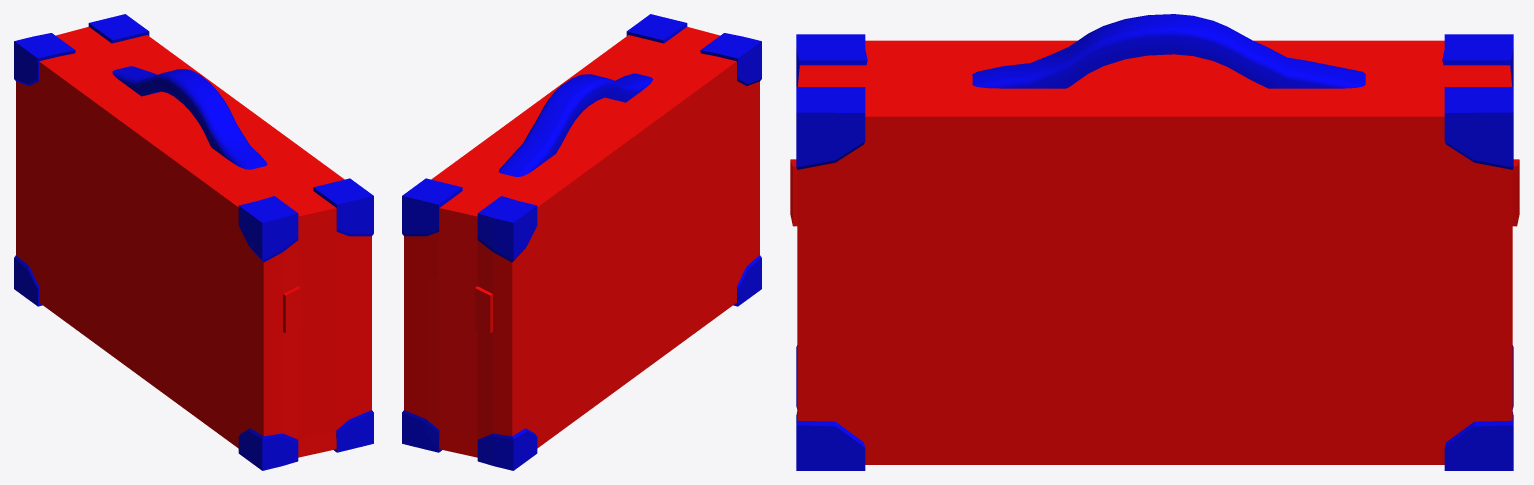
The model's file is Maleta1.fbx.
3 views of the same model, side by side, from view 1: azimuth 30°, elevation 25°; view 2: azimuth 150°, elevation 25°; view 3: azimuth 270°, elevation 25° (orthographic). The views are drawn at different scales.
Parts seen in each view (by area): view 1: Cube.002, Cube.003; view 2: Cube.002, Cube.003; view 3: Cube.002, Cube.003.
Boxes of the visible parts, bbox=[...] form: Cube.002: bbox=[14, 14, 373, 470]; Cube.003: bbox=[112, 66, 267, 169]; Cube.002: bbox=[402, 14, 761, 470]; Cube.003: bbox=[498, 73, 653, 176]; Cube.002: bbox=[790, 34, 1519, 470]; Cube.003: bbox=[972, 14, 1365, 88].
Size of the model in its own units: 39.29 by 96.16 by 154.
